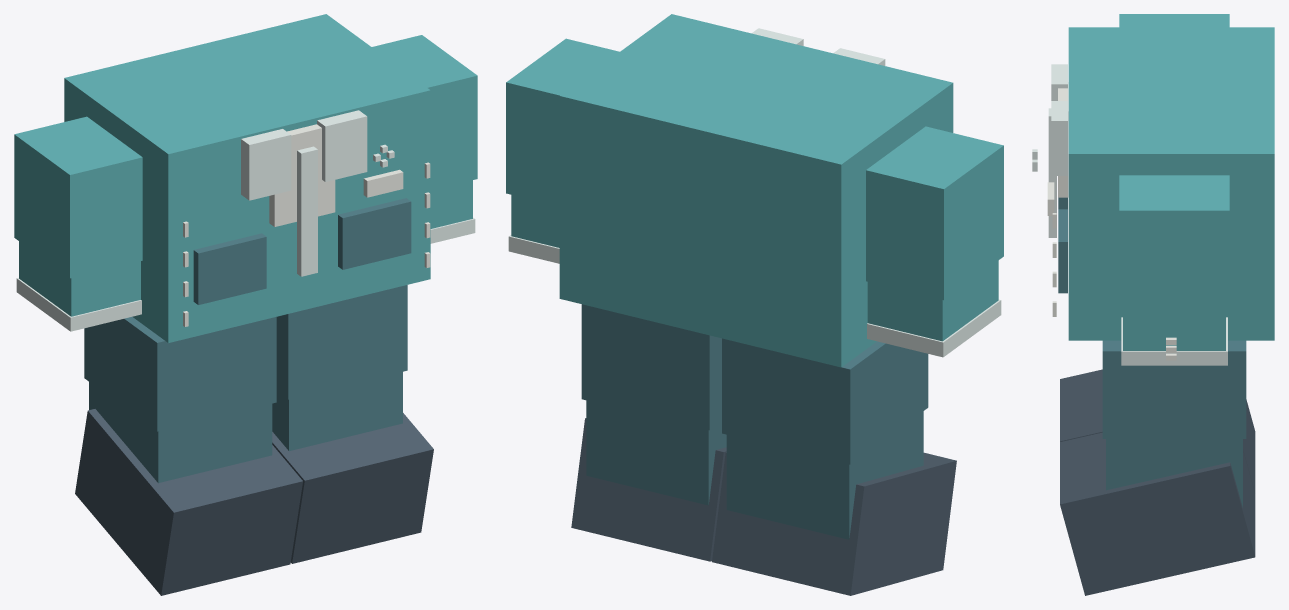
File: business-teal.glb
3 views of the same model, side by side, from view 1: azimuth 30°, elevation 25°; view 2: azimuth 150°, elevation 25°; view 3: azimuth 270°, elevation 25° (orthographic). The views are drawn at different scales.
Parts seen in each view (by area): view 1: jacket, shoe-Right, upper-sleeve-Right, trouser-Right, shoe-Left, trouser-Left, lower-trouser-Right, upper-sleeve-Left, lower-trouser-Left, lower-sleeve-Right, pocket--1, pocket-1 (+8 smaller); view 2: jacket, upper-sleeve-Right, trouser-Right, shoe-Right, trouser-Left, lower-trouser-Right, lower-trouser-Left, upper-sleeve-Left, shoe-Left, lower-sleeve-Right, cuff-Right, lower-sleeve-Left (+1 smaller); view 3: jacket, shoe-Left, upper-sleeve-Left, trouser-Left, lower-trouser-Left, lower-sleeve-Left, shoe-Right, cuff-Left, upper-sleeve-Right, lapel-1, pocket-1, tie (+2 smaller).
Part boxes in pixels (x1,y1,x2,y2): jacket: [64, 14, 430, 342]; shoe-Right: [75, 409, 302, 595]; upper-sleeve-Right: [14, 116, 142, 278]; trouser-Right: [84, 317, 276, 431]; shoe-Left: [272, 413, 433, 563]; trouser-Left: [276, 285, 407, 399]; lower-trouser-Right: [89, 382, 272, 482]; upper-sleeve-Left: [372, 35, 477, 190]; lower-trouser-Left: [272, 372, 402, 451]; lower-sleeve-Right: [19, 241, 140, 316]; pocket--1: [193, 233, 266, 304]; pocket-1: [338, 198, 411, 269]; jacket: [559, 14, 953, 367]; upper-sleeve-Right: [866, 126, 1003, 300]; trouser-Right: [722, 338, 928, 464]; shoe-Right: [712, 452, 956, 595]; trouser-Left: [581, 304, 721, 430]; lower-trouser-Right: [726, 411, 923, 539]; lower-trouser-Left: [586, 400, 726, 505]; upper-sleeve-Left: [506, 38, 619, 206]; shoe-Left: [571, 418, 726, 561]; lower-sleeve-Right: [867, 260, 998, 341]; cuff-Right: [867, 299, 1001, 357]; lower-sleeve-Left: [511, 195, 559, 247]; jacket: [1068, 27, 1274, 340]; shoe-Left: [1060, 432, 1255, 595]; upper-sleeve-Left: [1119, 175, 1229, 312]; trouser-Left: [1102, 340, 1246, 438]; lower-trouser-Left: [1106, 439, 1242, 507]; lower-sleeve-Left: [1123, 312, 1225, 350]; shoe-Right: [1060, 369, 1255, 493]; cuff-Left: [1121, 317, 1227, 365]; upper-sleeve-Right: [1119, 14, 1229, 27]; lapel-1: [1051, 101, 1067, 175]; pocket-1: [1058, 209, 1067, 293]; tie: [1048, 108, 1056, 237].
Size of the model in its own units: 1.08 by 1.13 by 0.559.
